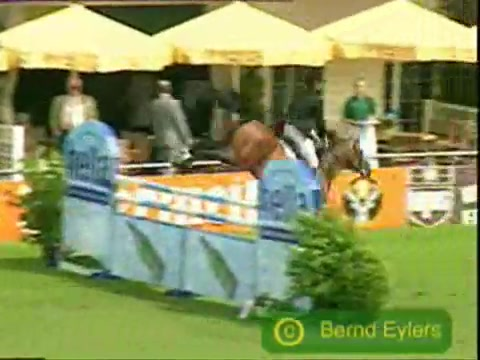horse: (171, 89, 371, 205)
